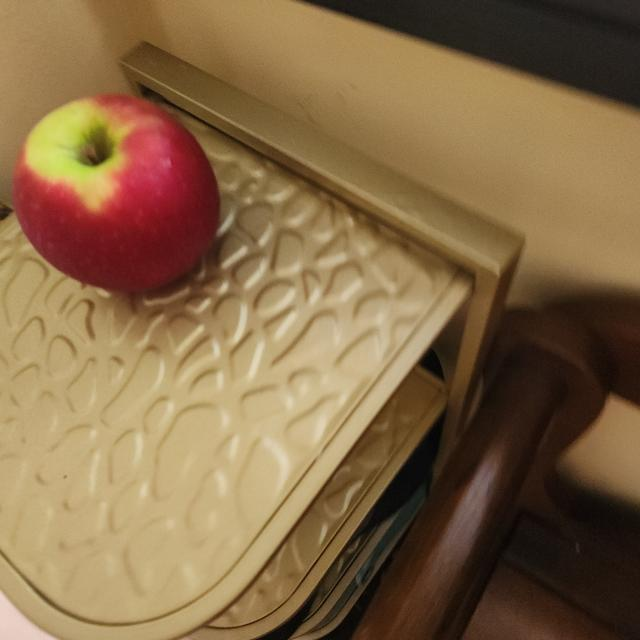apple: (11, 76, 224, 314)
